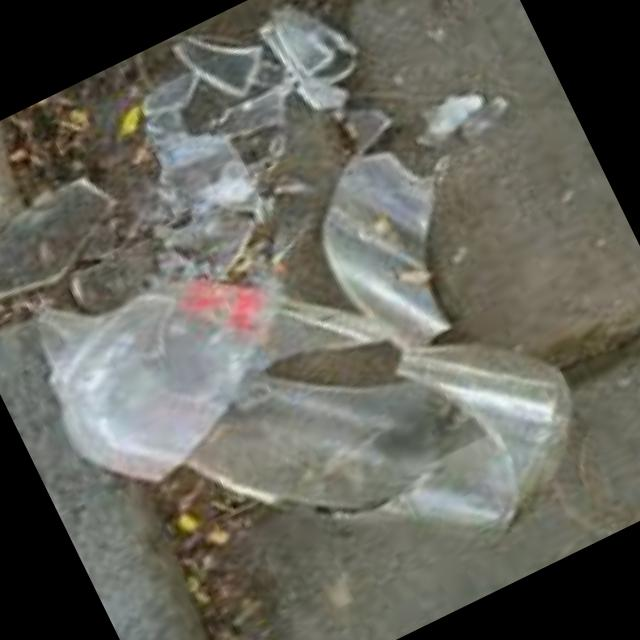PecahanKaca: (0, 0, 628, 640)
